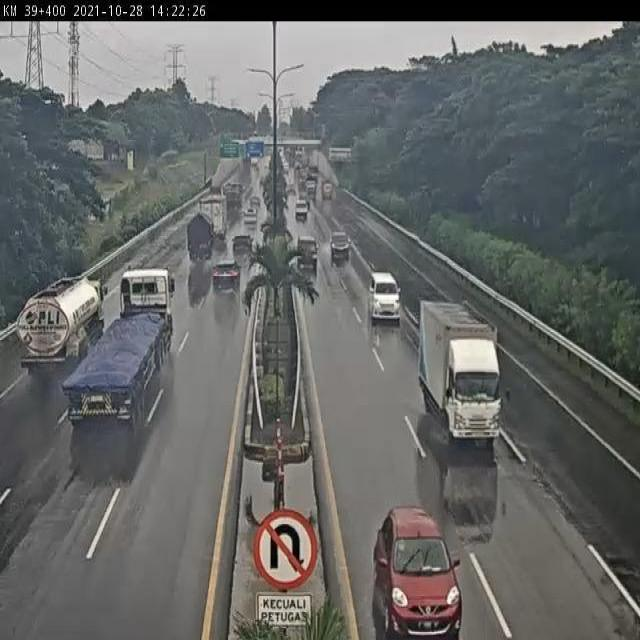car: (367, 264, 403, 323), (294, 231, 321, 273), (230, 229, 256, 259)
truck-l-: (195, 193, 227, 243)
truck-m-: (17, 276, 109, 368), (187, 216, 210, 264)
truck-s-: (416, 296, 504, 451)
truck-xl-: (64, 265, 177, 427)
